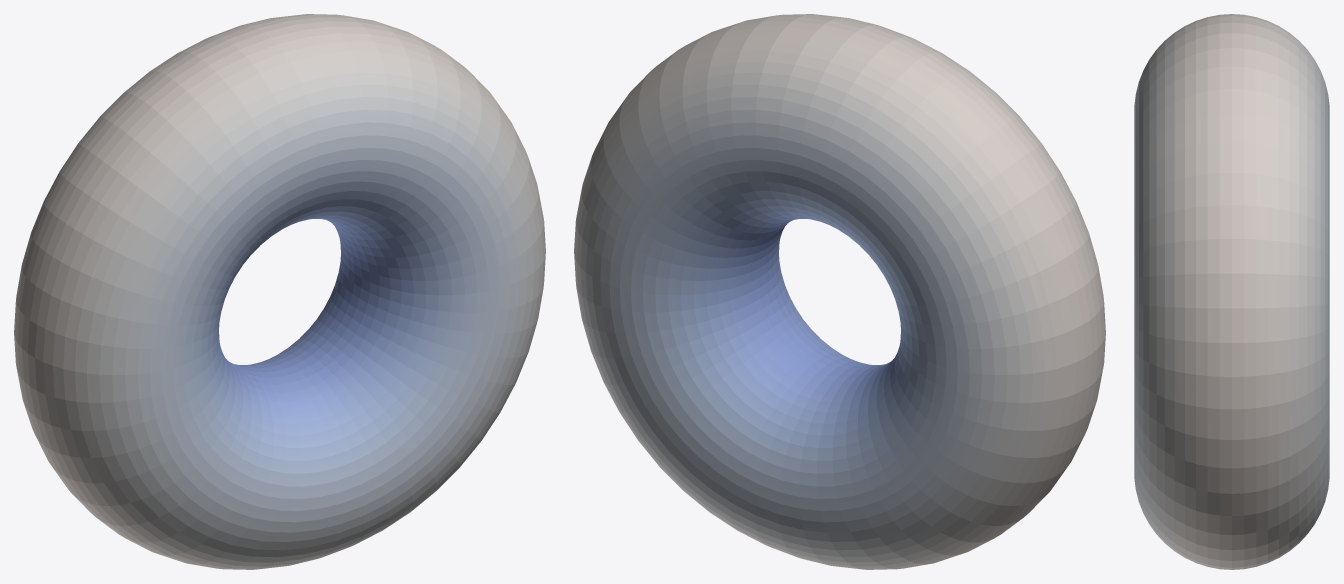
3 renders of one model, left to right at view 1: azimuth 30°, elevation 25°; view 2: azimuth 150°, elevation 25°; view 3: azimuth 270°, elevation 25°, orthographic. The views are drawn at different scales.
Parts seen in each view (by area): view 1: world; view 2: world; view 3: world.
Boxes of the visible parts, x1=… form: world: x1=14, y1=14, x2=545, y2=569; world: x1=574, y1=14, x2=1105, y2=569; world: x1=1134, y1=14, x2=1329, y2=569.
Size of the model in its own units: 21.6 by 21.56 by 7.59.
